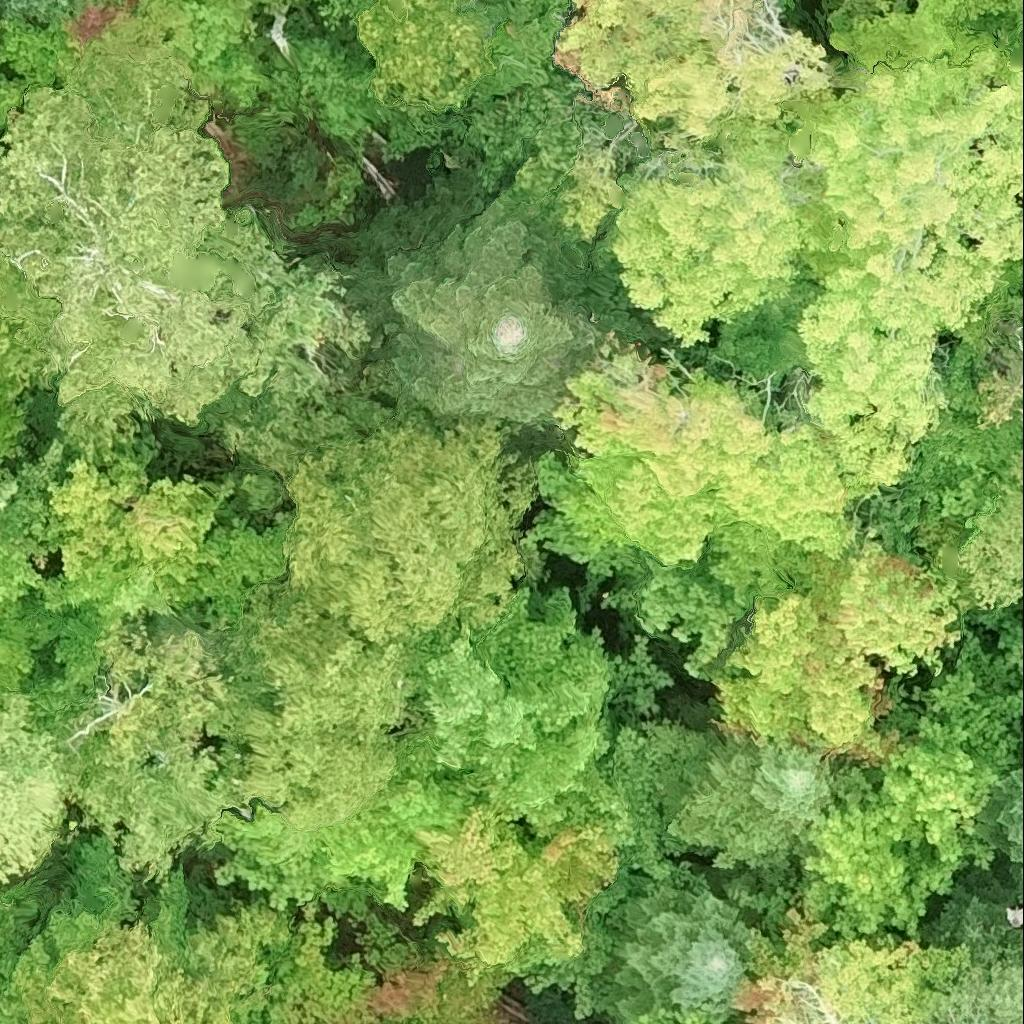crown: (221, 393, 537, 647), (794, 622, 1023, 952), (372, 198, 606, 429), (429, 583, 620, 831), (223, 591, 413, 832), (0, 835, 209, 1023), (406, 807, 622, 979), (30, 906, 291, 1023), (732, 907, 967, 1023), (649, 726, 834, 869), (596, 881, 750, 1023), (248, 914, 438, 1023), (370, 945, 510, 1023), (975, 763, 1023, 902), (629, 1007, 727, 1023)
